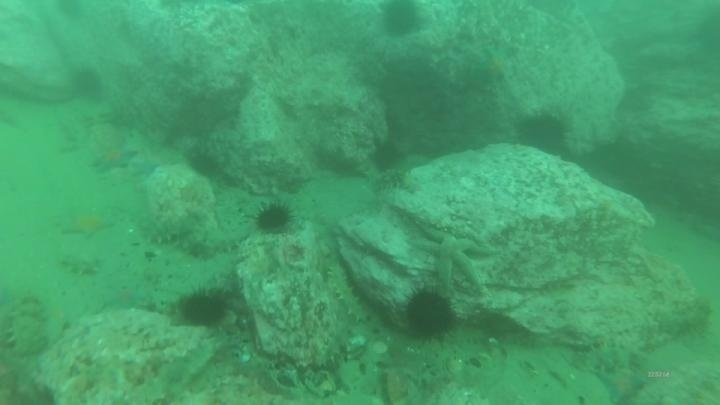echinus: (401, 285, 459, 343), (515, 109, 570, 155), (176, 286, 231, 329), (378, 2, 424, 40), (253, 200, 295, 235), (68, 65, 105, 101), (369, 140, 404, 173), (186, 149, 222, 181), (53, 1, 87, 23)
holothurian: (295, 219, 338, 312), (324, 260, 372, 327), (3, 291, 49, 357), (184, 222, 252, 260), (140, 215, 208, 252), (575, 340, 641, 376), (56, 250, 104, 279)
starfish: (593, 364, 649, 404), (36, 294, 75, 346), (59, 207, 116, 241), (476, 43, 518, 86), (89, 142, 139, 175), (100, 284, 149, 314), (129, 155, 163, 179)
